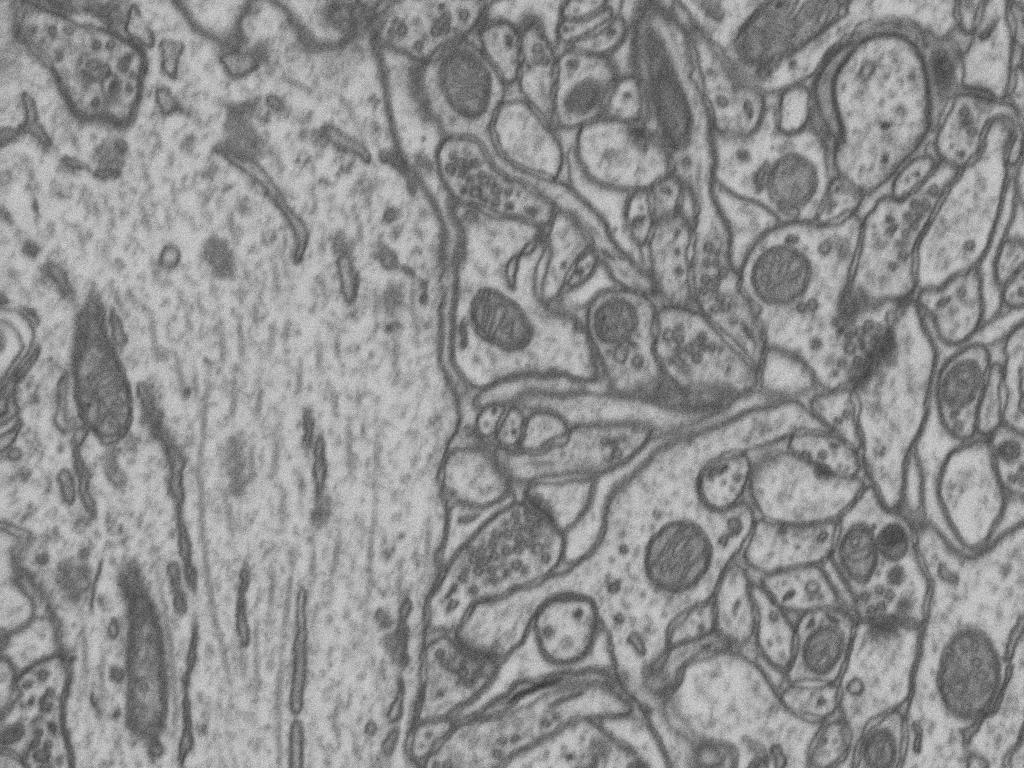mitochondria: (102, 539, 198, 768), (618, 0, 713, 165), (716, 0, 850, 100), (426, 23, 508, 139), (635, 512, 724, 611), (453, 263, 531, 353), (753, 138, 836, 220), (748, 245, 826, 327), (944, 646, 1005, 748), (926, 343, 996, 423), (829, 506, 893, 583), (586, 298, 663, 359), (799, 615, 853, 691), (861, 716, 915, 768), (887, 515, 923, 562)
